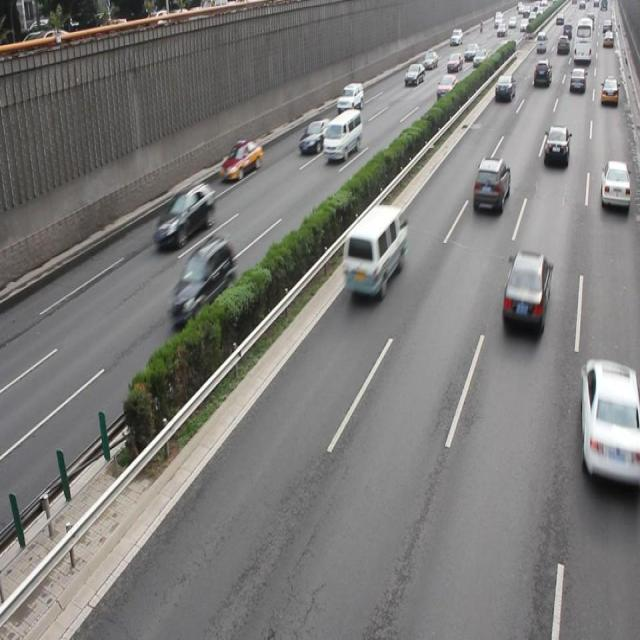car: (578, 356, 640, 487), (170, 235, 235, 326), (500, 248, 550, 332), (154, 181, 216, 248), (471, 156, 508, 214), (219, 139, 262, 180), (599, 158, 629, 208), (543, 124, 568, 166), (298, 118, 328, 153)
truck: (342, 202, 404, 298), (322, 107, 361, 161)
